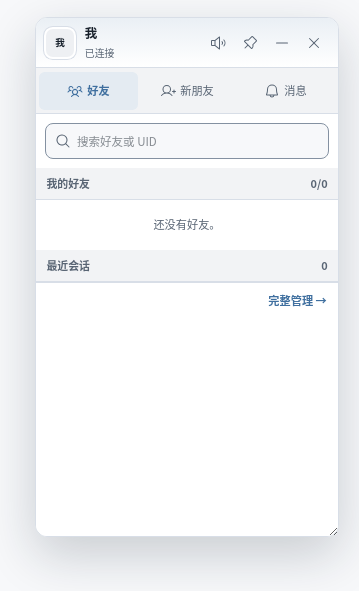
Test: keeps an outgoing pending request visible as waiting when its UID is searched
This screenshot has width=359, height=591.
Click the button "新朋友" at [187, 91], box x1=138 y1=72 x2=236 y2=110
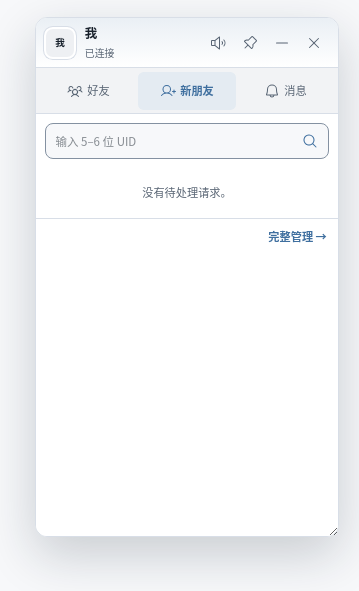
Type "12346" into the field named "搜索好友 UID" at [169, 141], box x1=46 y1=124 x2=292 y2=158
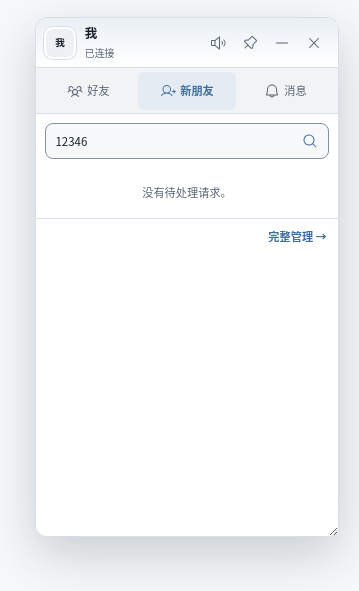
Click the button named "搜索" at [310, 141], box x1=292 y1=124 x2=328 y2=158
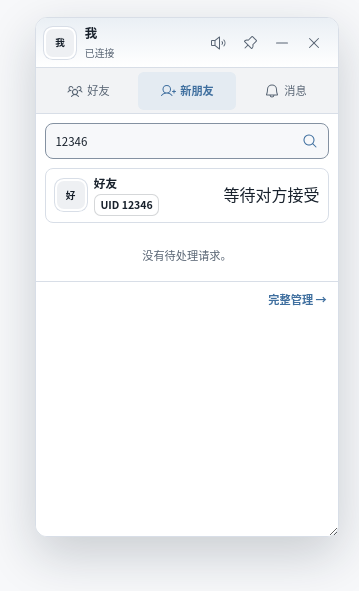
expect the text "等待对方接受" is shown: met, box x1=223 y1=182 x2=319 y2=208
